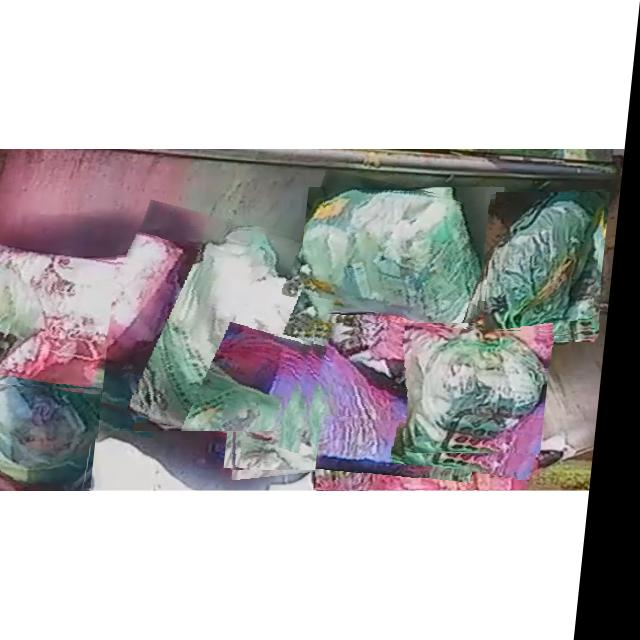general_trashbag: (118, 230, 320, 430), (308, 192, 492, 323), (493, 192, 609, 341), (419, 330, 555, 453), (0, 386, 110, 490)
other_trashbag: (242, 327, 494, 470), (0, 243, 187, 420), (325, 420, 542, 490)
